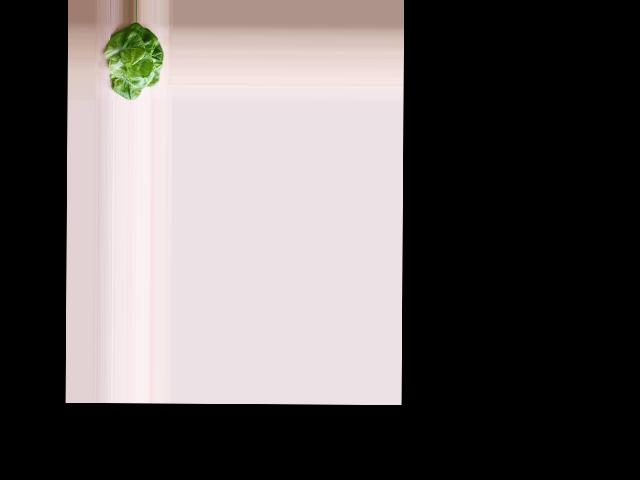lettuce: (106, 23, 163, 98)
